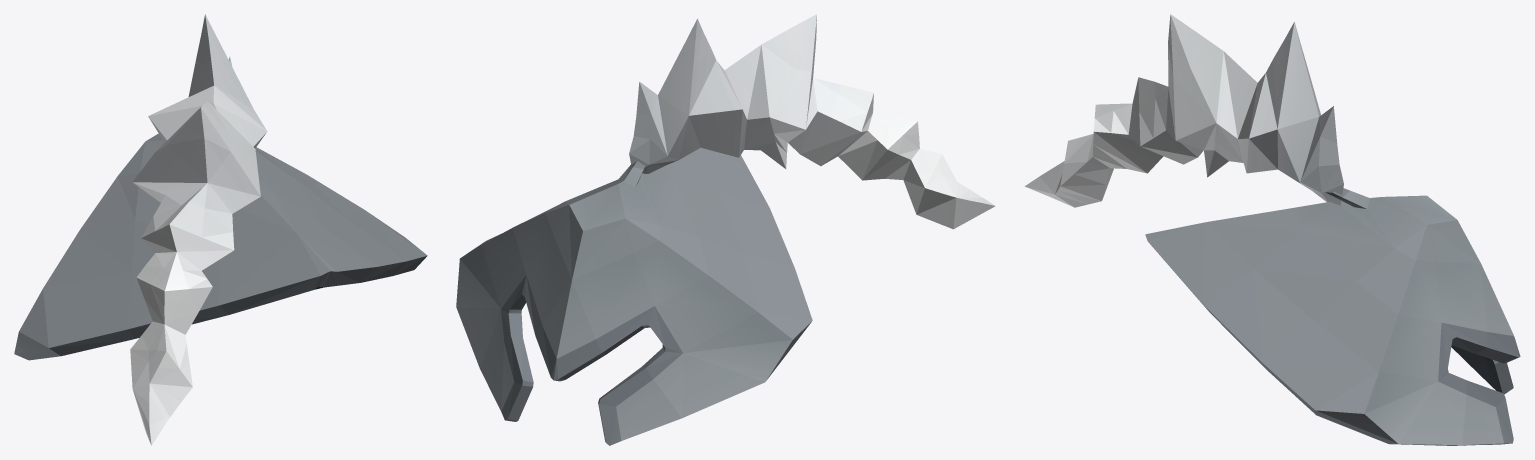
File: CharSkyNPC_Mask_KnightHelmet.glb
The picture shows the model from 3 angles, left to right: view 1: azimuth 30°, elevation 25°; view 2: azimuth 150°, elevation 25°; view 3: azimuth 270°, elevation 25°; orthographic projection. The views are drawn at different scales.
Visible parts, largest first — view 1: CharSkyNPC_Mask_KnightHelmet; view 2: CharSkyNPC_Mask_KnightHelmet; view 3: CharSkyNPC_Mask_KnightHelmet.
Boxes of the visible parts, x1,y1,x2,y2 form: CharSkyNPC_Mask_KnightHelmet: [14, 14, 427, 445]; CharSkyNPC_Mask_KnightHelmet: [456, 14, 995, 445]; CharSkyNPC_Mask_KnightHelmet: [1024, 14, 1520, 445].
Bounding box in the file's own units: 5.68 × 5.09 × 6.04.
1 material, 1 textured.
